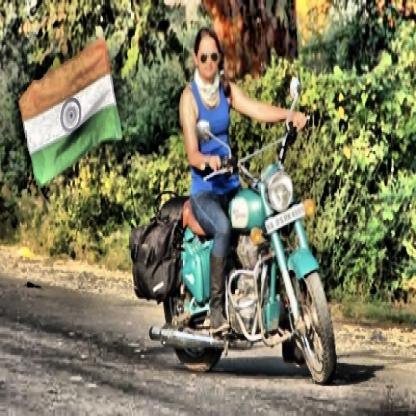not_wear: (195, 26, 220, 94)
